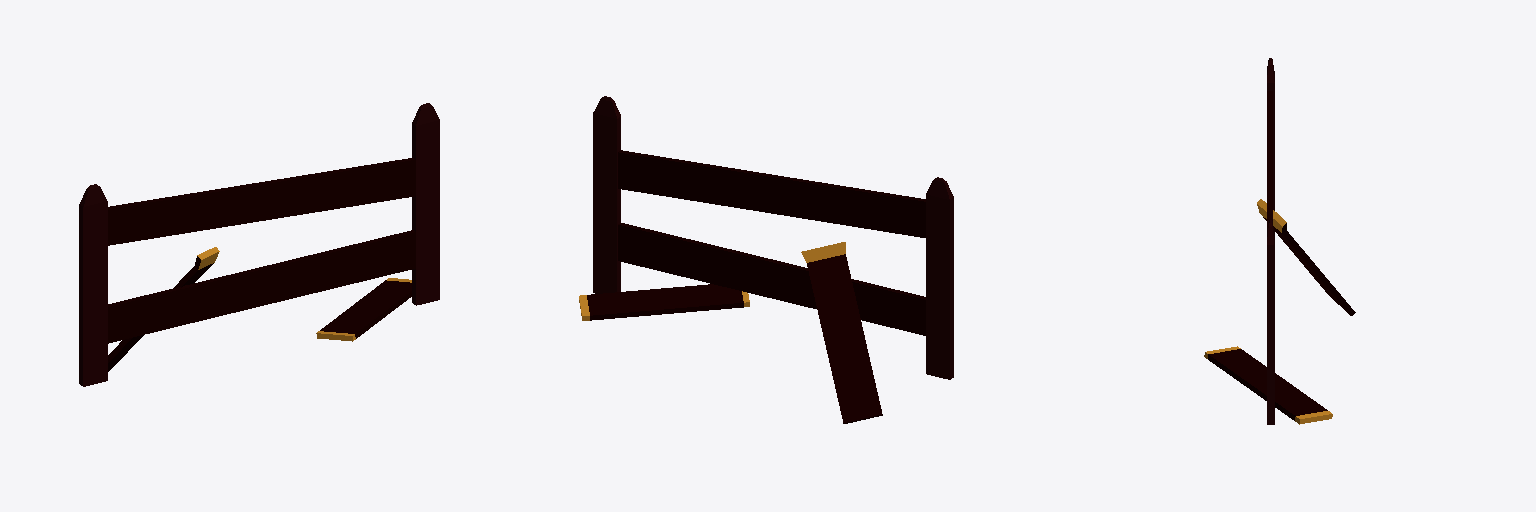
File: BrokenFence2.obj
3 views of the same model, side by side, from view 1: azimuth 30°, elevation 25°; view 2: azimuth 150°, elevation 25°; view 3: azimuth 270°, elevation 25° (orthographic).
Visible parts, largest first — view 1: Cube.004, Cube.002, Cube.001, Cube.006, Cube.005, Cube.003; view 2: Cube.002, Cube.004, Cube.003, Cube.001, Cube.006, Cube.005; view 3: Cube.005, Cube.006, Cube.003, Cube.002.
Boxes of the visible parts, <box> form: Cube.004: <box>108,230,415,343</box>; Cube.002: <box>108,158,415,245</box>; Cube.001: <box>79,184,107,386</box>; Cube.006: <box>412,103,439,305</box>; Cube.005: <box>316,278,411,341</box>; Cube.003: <box>108,247,219,371</box>; Cube.002: <box>618,150,925,237</box>; Cube.004: <box>618,223,925,335</box>; Cube.003: <box>801,242,882,423</box>; Cube.001: <box>926,177,953,379</box>; Cube.006: <box>593,96,620,293</box>; Cube.005: <box>579,284,749,320</box>; Cube.005: <box>1204,346,1332,424</box>; Cube.006: <box>1267,220,1274,424</box>; Cube.003: <box>1257,199,1355,315</box>; Cube.002: <box>1267,91,1272,227</box>.
Size of the model in its own units: 4.33 by 2.66 by 1.59.